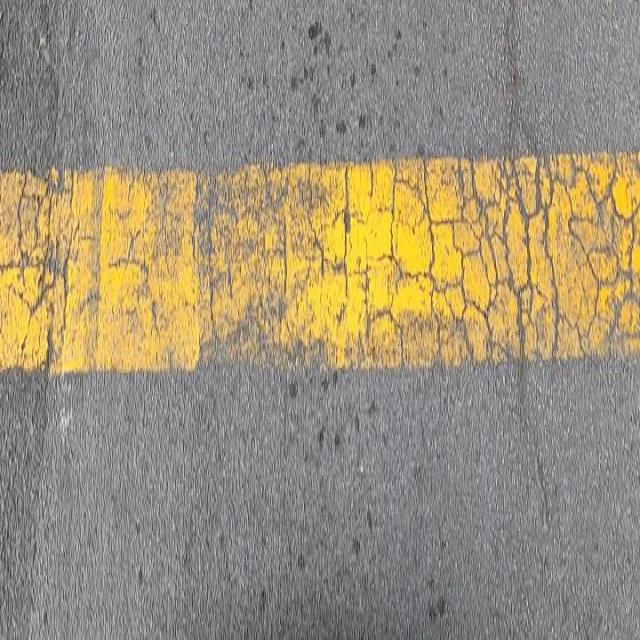cracks: (0, 119, 640, 404)
